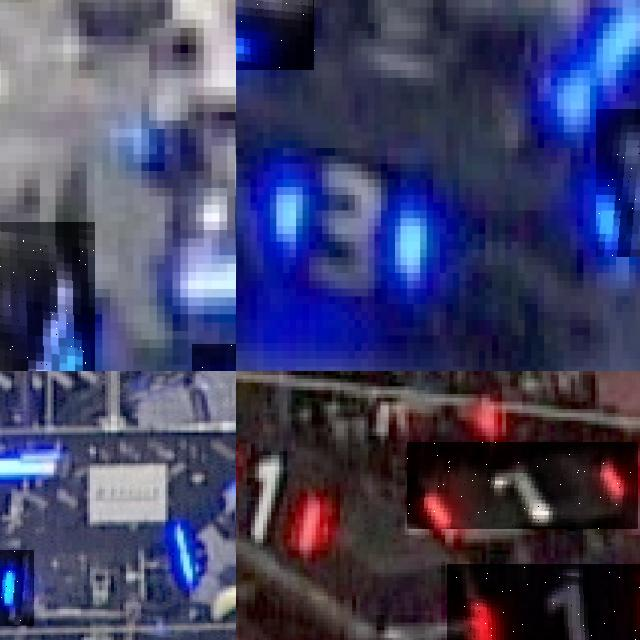B2: (0, 550, 34, 625)
B3: (270, 140, 440, 289), (0, 221, 94, 371), (596, 108, 640, 257), (236, 0, 315, 70)
R1: (407, 442, 638, 529), (447, 563, 640, 640), (236, 441, 331, 563)
